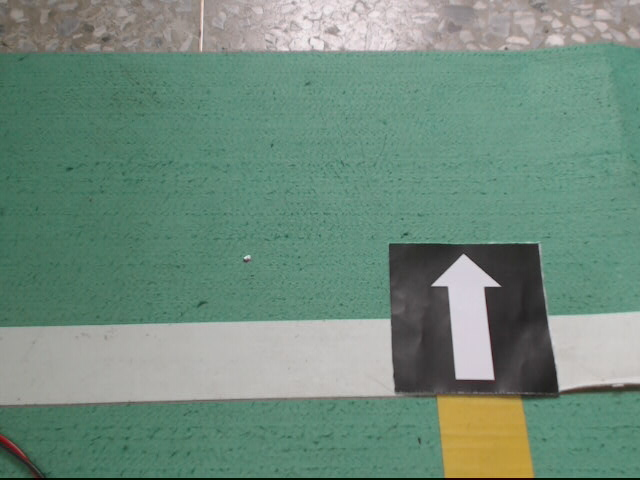straight: (390, 242, 558, 397)
